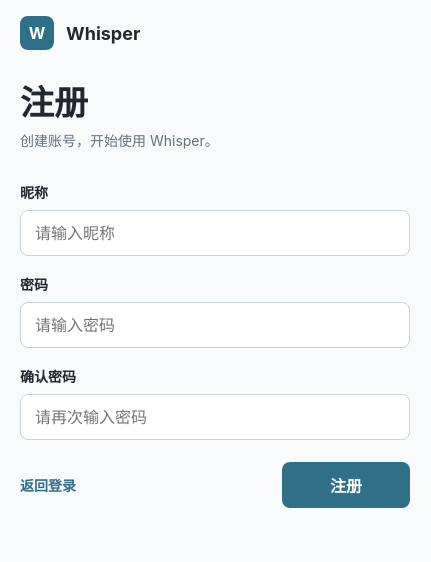
RegisterPanel › shows a user-facing message when registration fails
Type "alice" into the field labelled "昵称".
click(215, 233); type("alice")  # box [20,210,410,256]
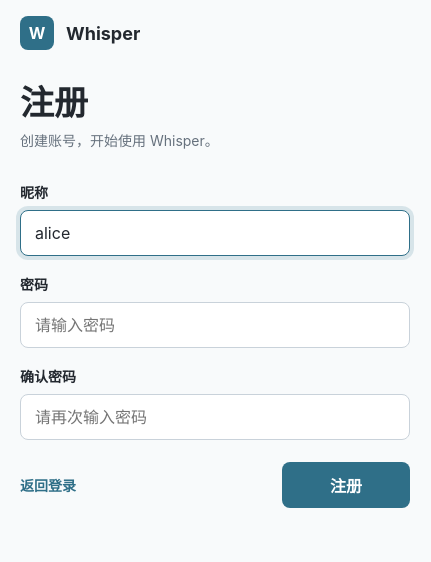
Type "secret" into the password field labelled "密码".
click(215, 325); type("secret")  # box [20,302,410,348]
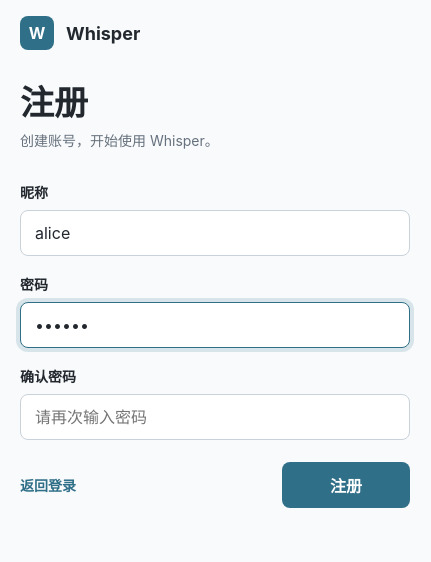
Type "secret" into the password field labelled "确认密码".
click(215, 417); type("secret")  # box [20,394,410,440]
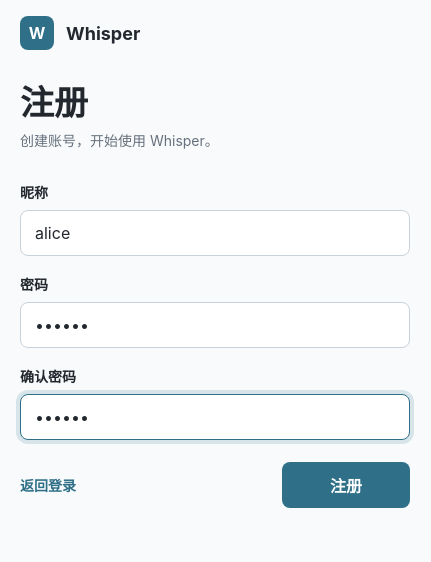
Click the button "注册".
click(346, 485)  # box [282,462,410,508]
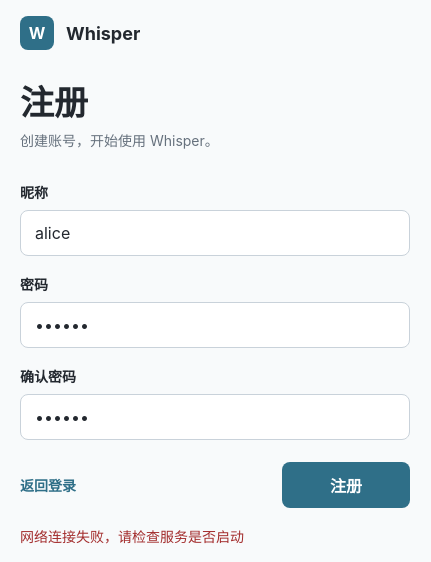
expect the text "网络连接失败，请检查服务是否启动" is shown: met, box [20,528,244,545]
